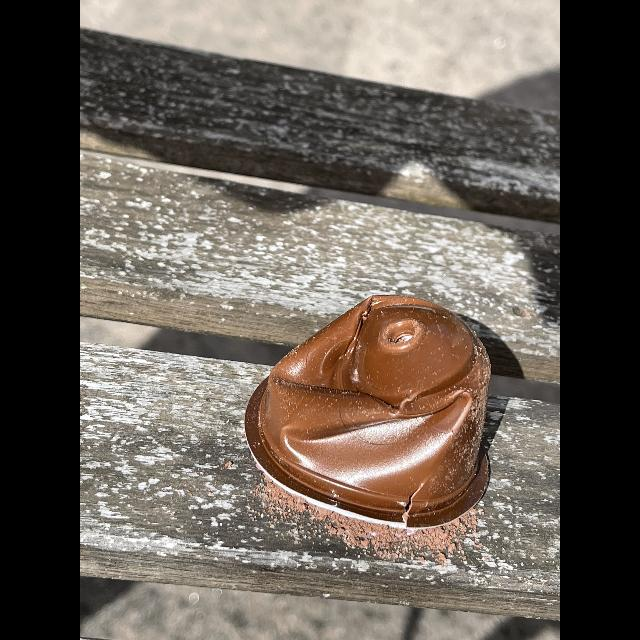damaged_capsule: (226, 284, 530, 534)
